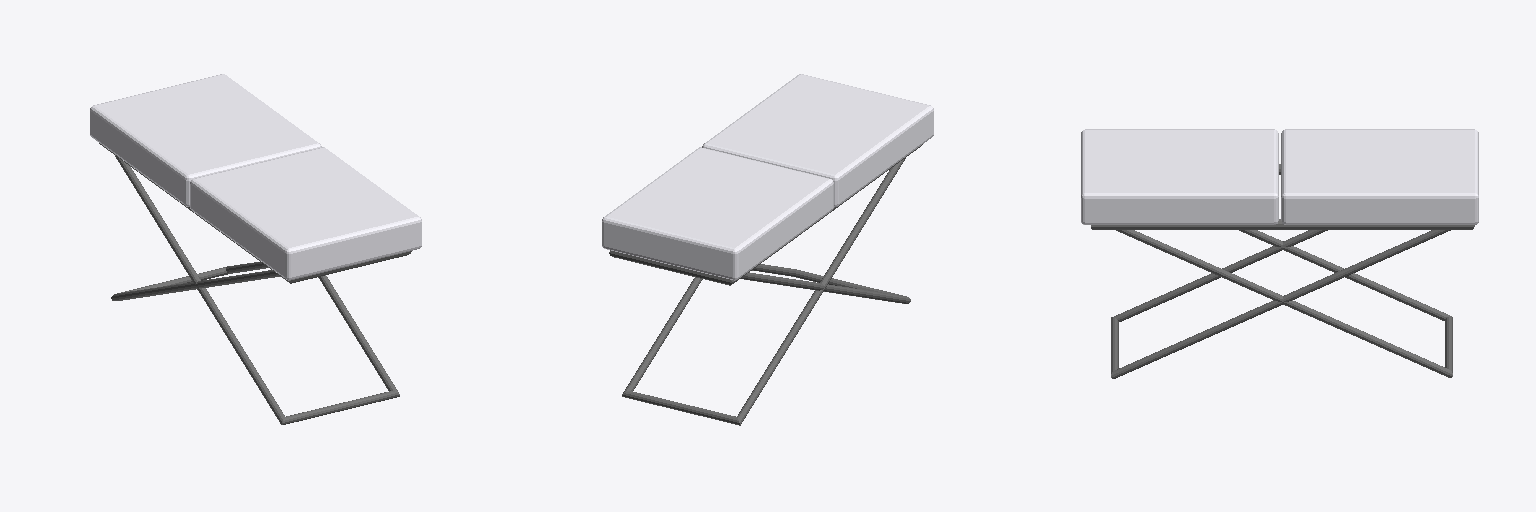
File: Folding_Bed.obj
3 views of the same model, side by side, from view 1: azimuth 30°, elevation 25°; view 2: azimuth 150°, elevation 25°; view 3: azimuth 270°, elevation 25° (orthographic).
Visible parts, largest first — view 1: ChamferBox001, ChamferBox002, Rectangle002; view 2: ChamferBox002, ChamferBox001, Rectangle002; view 3: ChamferBox001, ChamferBox002, Rectangle002.
Boxes of the visible parts, x1=… form: ChamferBox001: x1=190, y1=147, x2=421, y2=280; ChamferBox002: x1=90, y1=74, x2=321, y2=206; Rectangle002: x1=99, y1=143, x2=411, y2=424; ChamferBox002: x1=602, y1=147, x2=833, y2=280; ChamferBox001: x1=702, y1=74, x2=933, y2=206; Rectangle002: x1=609, y1=144, x2=922, y2=425; ChamferBox001: x1=1081, y1=129, x2=1278, y2=224; ChamferBox002: x1=1281, y1=129, x2=1478, y2=224; Rectangle002: x1=1091, y1=164, x2=1474, y2=378.
Bounding box in the file's own units: 40.13 × 53.18 × 101.